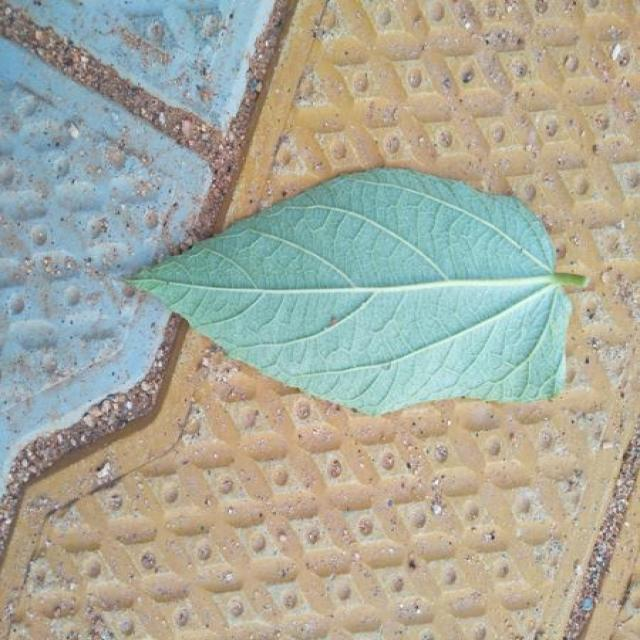gasagase: (128, 168, 587, 414)
